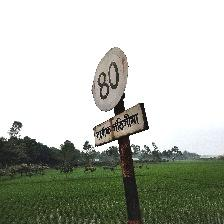Speed-limit: (91, 47, 147, 147)
